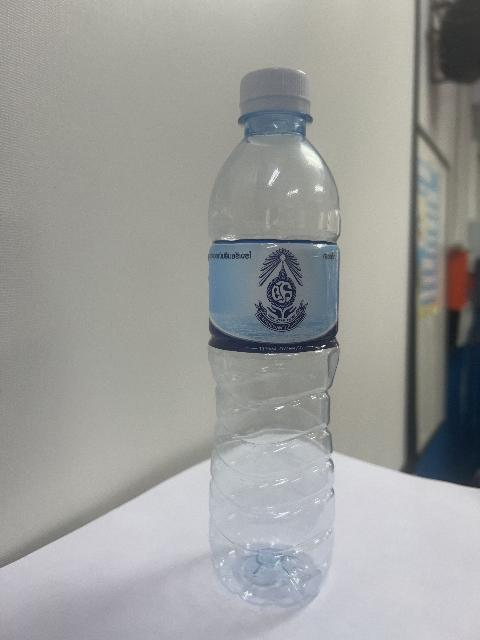bottle: (208, 69, 338, 605)
